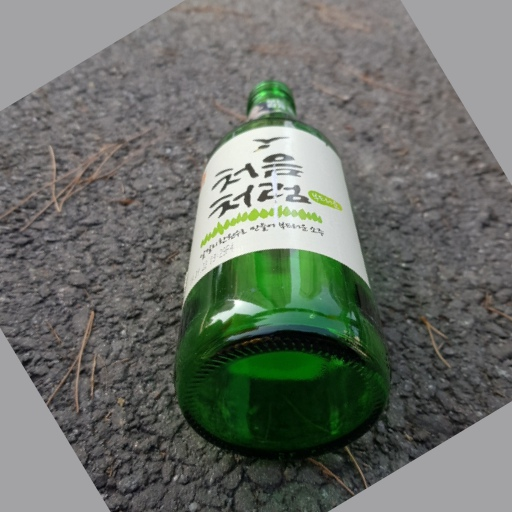Glass_0: (178, 79, 388, 458)
